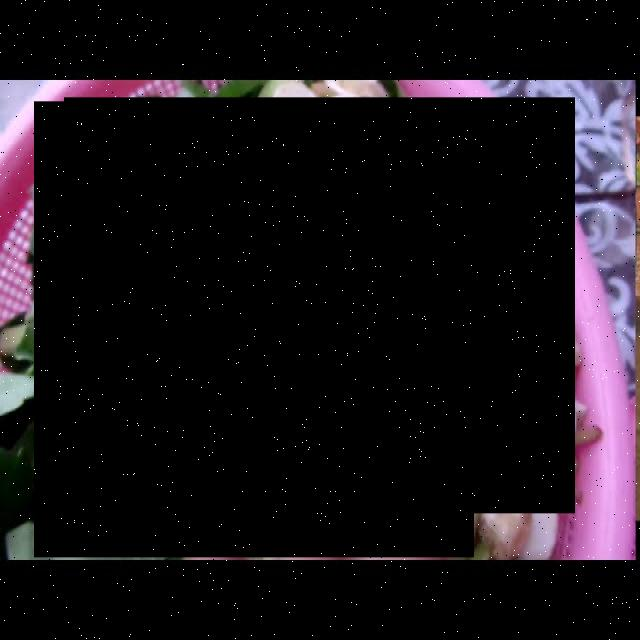Taro_Leaves: (65, 98, 576, 514), (34, 101, 474, 557)
